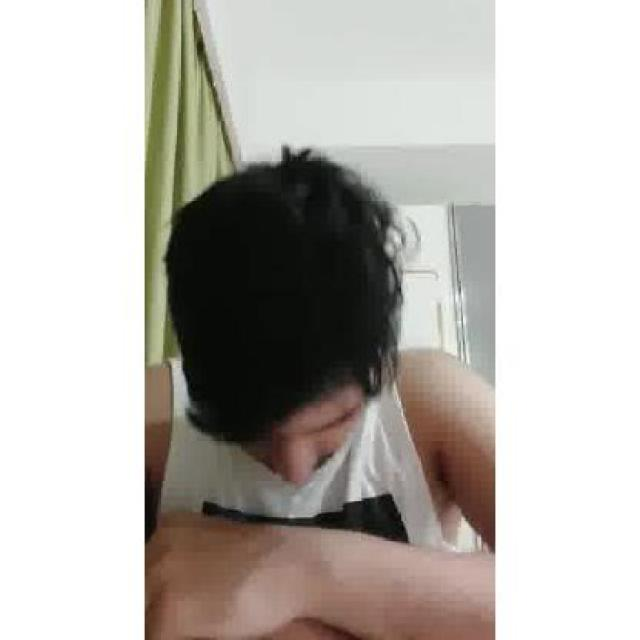inattentif: (167, 152, 371, 485)
